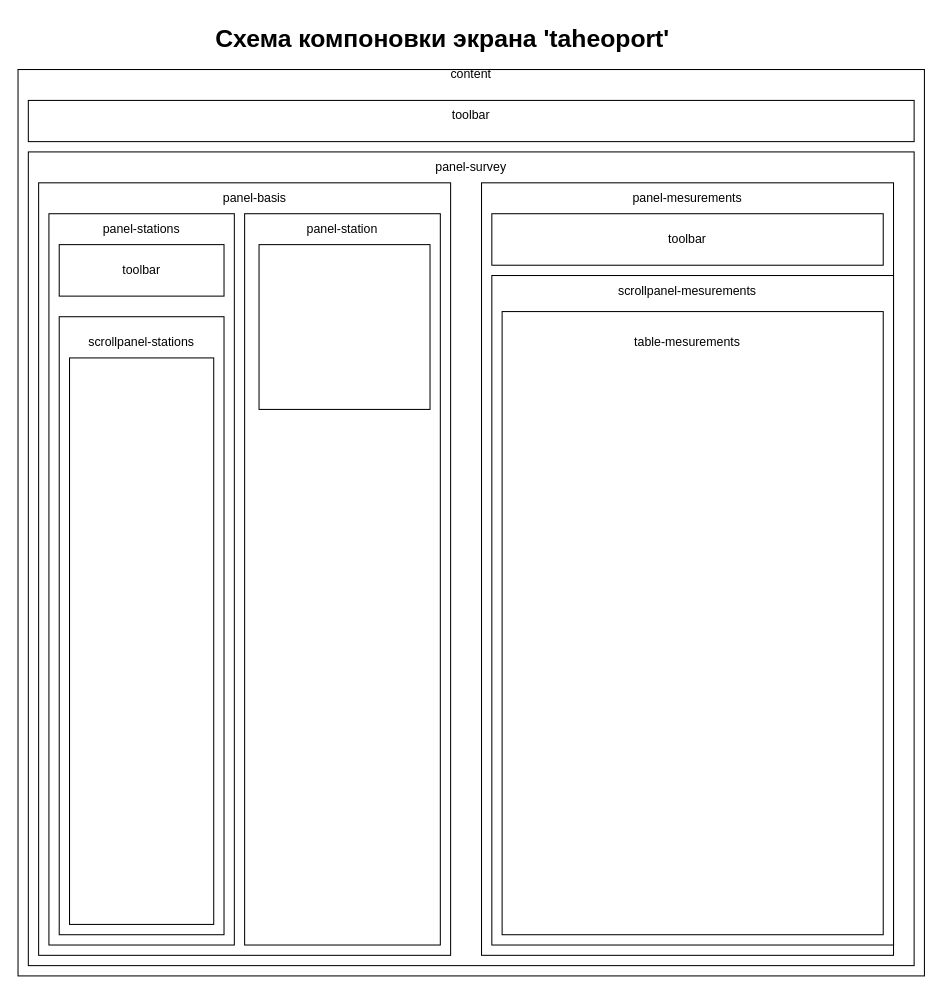
This 942x994 diagram has some shape labels left out. The shapes that lost their labels are listed below. From the top down, each one's centre as x and y in pixels, then its label:
At point (344, 326): "table-station".
At point (141, 640): "list-stations".
